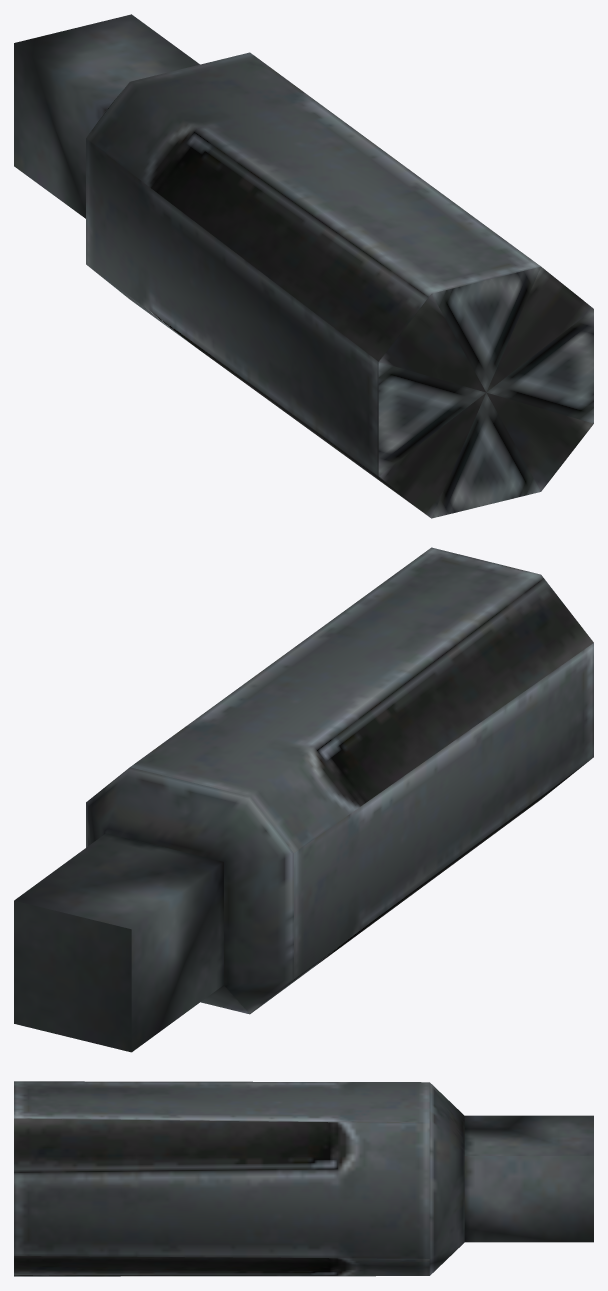
File: Assault_Rifle_bq_qt_01_lod2_Stock_LOD_(000420).glb
3 renders of one model, top to bottom at view 1: azimuth 30°, elevation 25°; view 2: azimuth 150°, elevation 25°; view 3: azimuth 270°, elevation 25°, orthographic. The views are drawn at different scales.
Visible parts, largest first — view 1: bq_qt_01_lod2; view 2: bq_qt_01_lod2; view 3: bq_qt_01_lod2.
Part boxes in pixels (box(x1,y1,x2,y2)): bq_qt_01_lod2: box(14, 14, 593, 518); bq_qt_01_lod2: box(14, 547, 593, 1052); bq_qt_01_lod2: box(14, 1081, 593, 1276).
Bounding box in the file's own units: 0.0533 × 0.0533 × 0.1773.
Materials: 1 (1 with a texture image).
